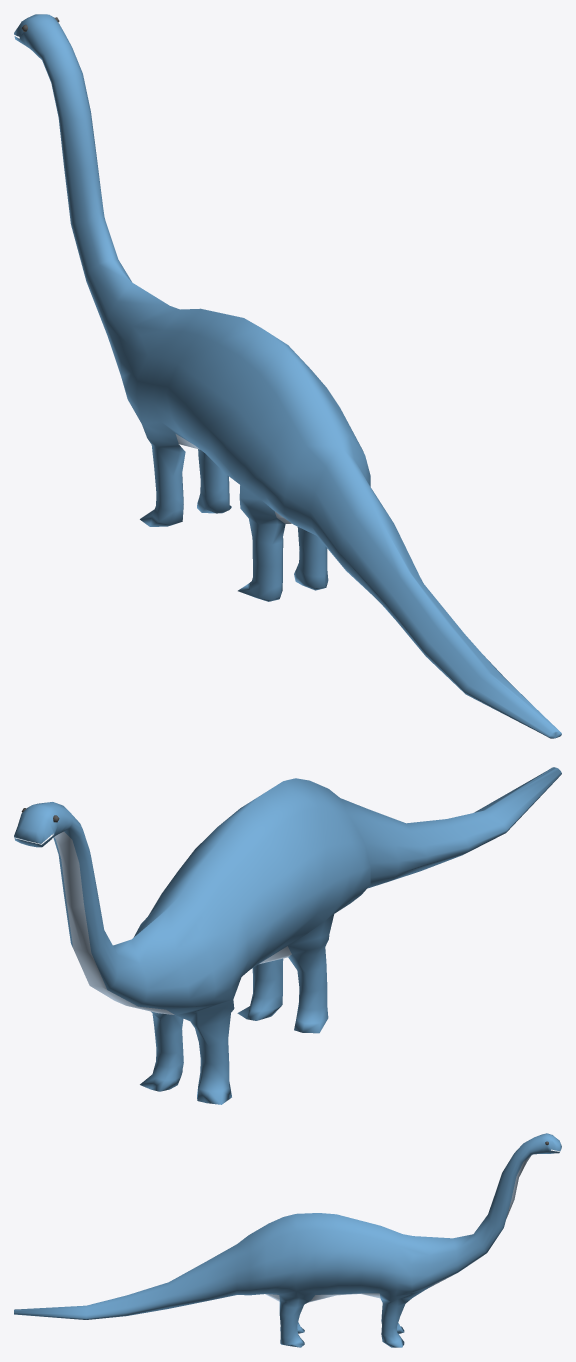
The picture shows the model from 3 angles, top to bottom: view 1: azimuth 30°, elevation 25°; view 2: azimuth 150°, elevation 25°; view 3: azimuth 270°, elevation 25°; orthographic projection. The views are drawn at different scales.
Parts seen in each view (by area): view 1: Symmetry.1; view 2: Symmetry.1; view 3: Symmetry.1.
Part boxes in pixels (bbox=[...]): Symmetry.1: bbox=[14, 14, 561, 738]; Symmetry.1: bbox=[14, 767, 561, 1104]; Symmetry.1: bbox=[14, 1133, 561, 1347].
Size of the model in its own units: 195 by 625 by 1531.
